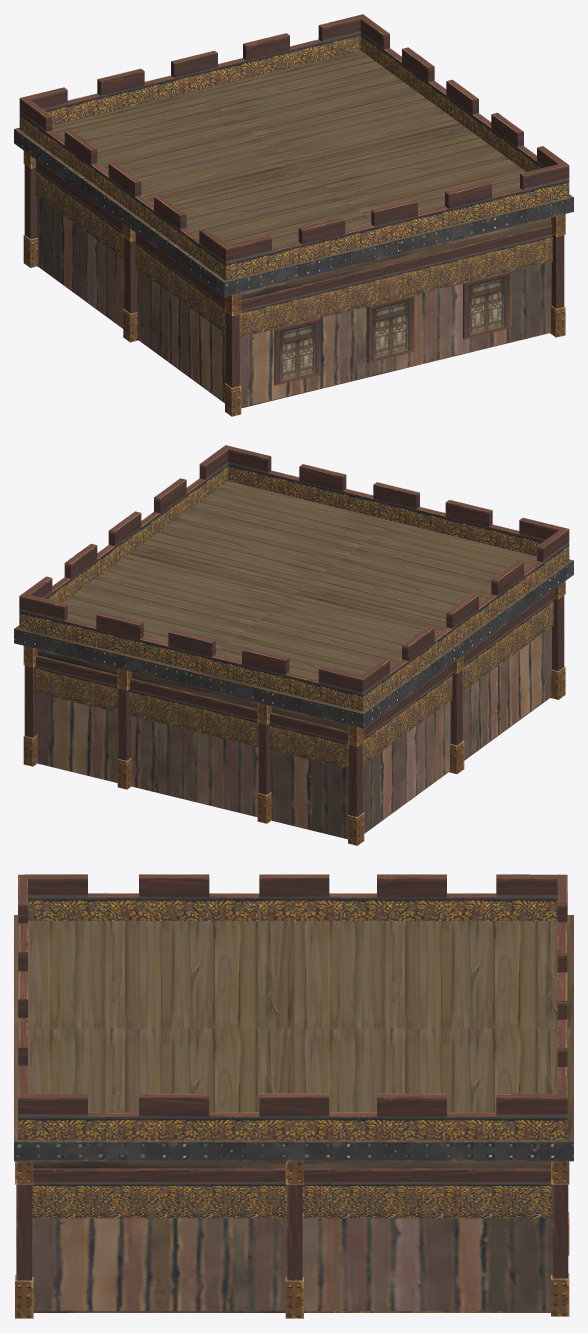
The model's file is oBldShipT01.FBX.
3 views of the same model, one above another, from view 1: azimuth 30°, elevation 25°; view 2: azimuth 150°, elevation 25°; view 3: azimuth 270°, elevation 25° (orthographic). The views are drawn at different scales.
Visible parts, largest first — view 1: oBldShipT01; view 2: oBldShipT01; view 3: oBldShipT01.
Part boxes in pixels (box(x1,y1,x2,y2)): oBldShipT01: box(14, 14, 573, 416); oBldShipT01: box(14, 445, 573, 845); oBldShipT01: box(14, 874, 573, 1318).
Size of the model in its own units: 105 by 48.04 by 109.
Materials: 1 (1 with a texture image).
